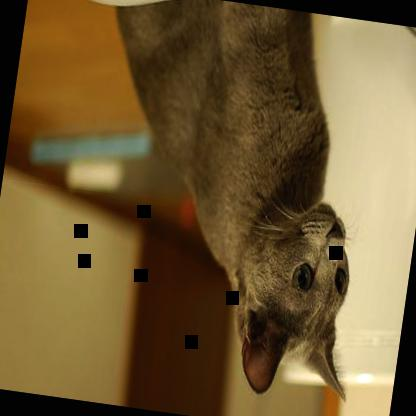cat: (64, 0, 401, 409)
